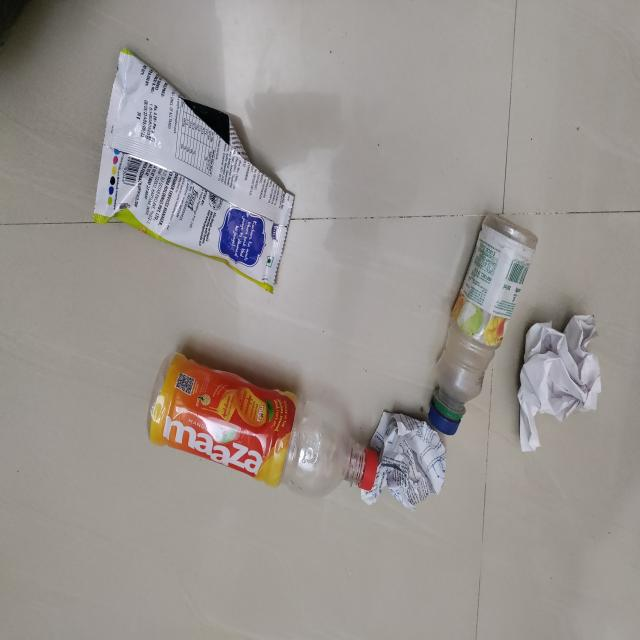dry: (94, 51, 294, 292), (148, 352, 379, 497), (431, 215, 539, 436), (519, 314, 601, 454), (380, 411, 446, 507)
